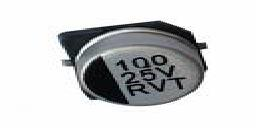Electrolytic-Capacitor: (55, 20, 213, 115)
